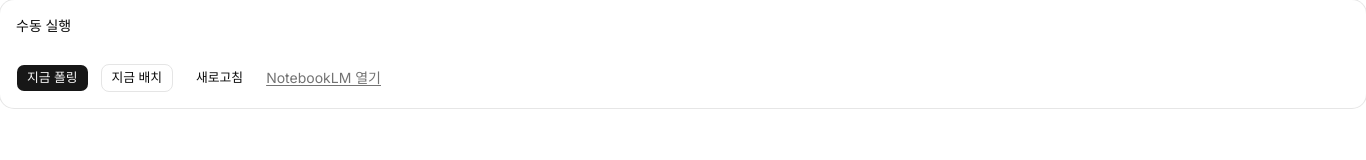
Test case: TriggerPanel › poll 실패 시 '폴링 실패' 메시지 표시
Step 1. Click the button "지금 폴링" → x=52, y=78, box [16, 64, 88, 92]
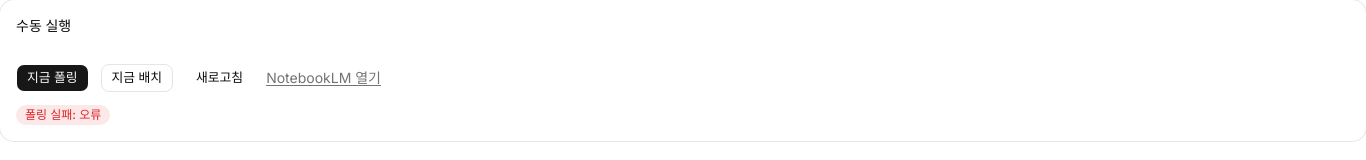
Expected: the text "폴링 실패: 오류" is shown, [16, 105, 110, 125]
